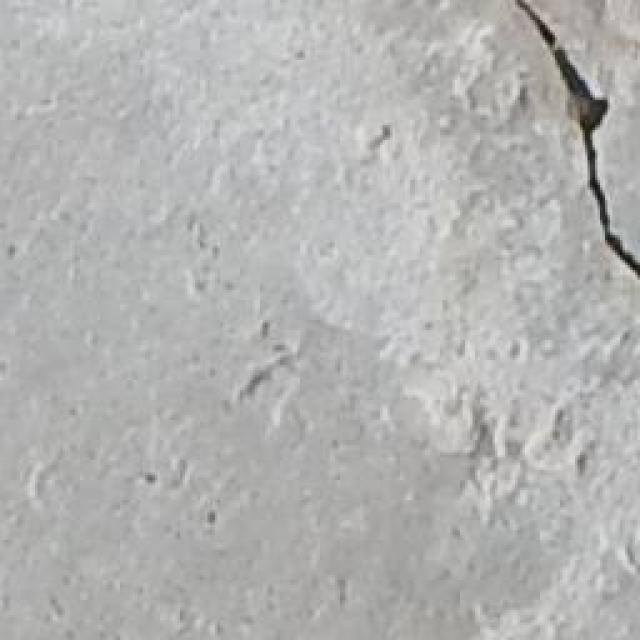concrete-crack: (508, 2, 640, 280)
